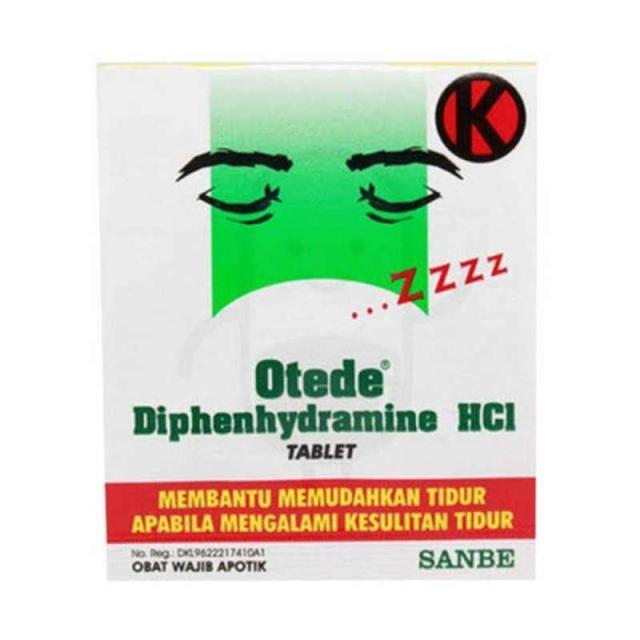drug-name: (251, 356, 393, 398)
